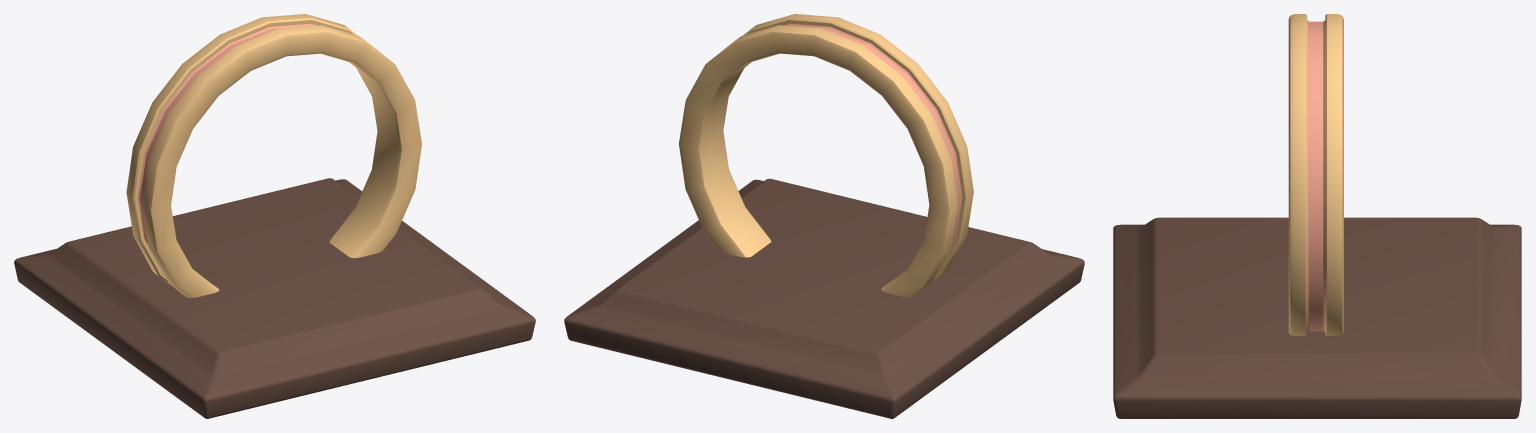
File: DM_Portal.fbx
3 views of the same model, side by side, from view 1: azimuth 30°, elevation 25°; view 2: azimuth 150°, elevation 25°; view 3: azimuth 270°, elevation 25° (orthographic). The views are drawn at different scales.
Parts seen in each view (by area): view 1: Base, Ring; view 2: Base, Ring; view 3: Base, Ring.
Boxes of the visible parts, left/top/right/bottom form: Base: left=14, top=178, right=535, bottom=418; Ring: left=126, top=14, right=421, bottom=298; Base: left=564, top=178, right=1084, bottom=418; Ring: left=679, top=14, right=973, bottom=297; Base: left=1113, top=217, right=1521, bottom=418; Ring: left=1288, top=14, right=1343, bottom=335.
Bounding box in the file's own units: 146 × 120 × 146.
